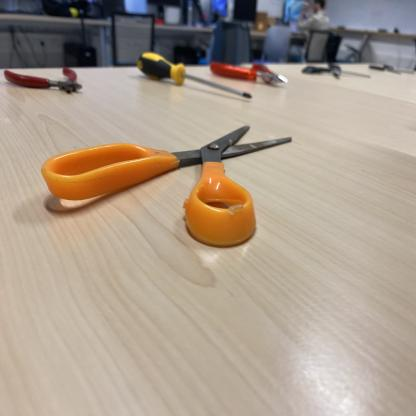scissors: (40, 126, 294, 246), (302, 63, 373, 83)
